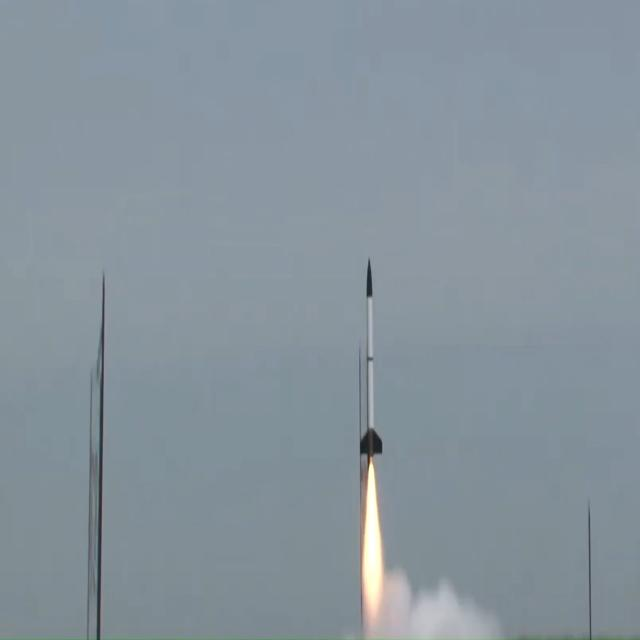Rocket: (359, 255, 384, 464)
